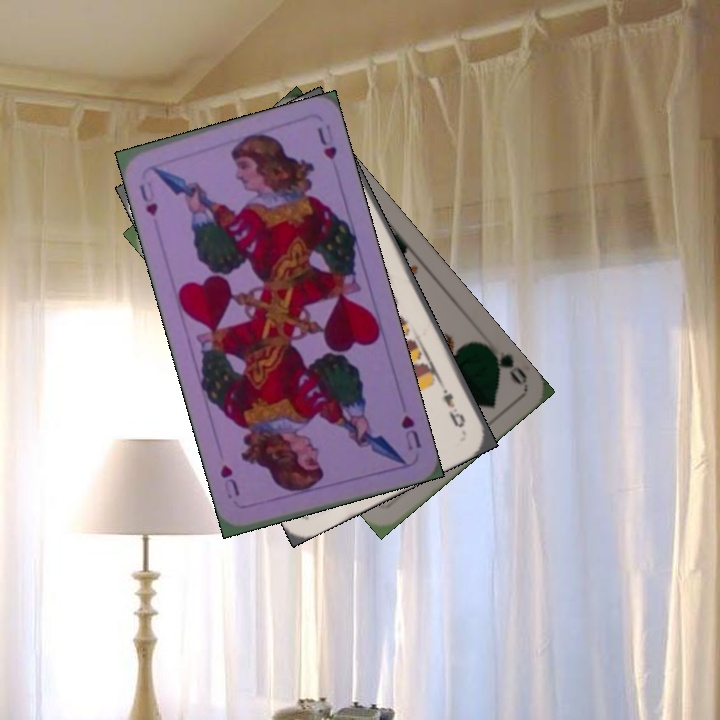E9: (437, 378, 469, 430)
GO: (480, 340, 530, 388)
HU: (397, 411, 424, 453), (135, 178, 161, 219)
